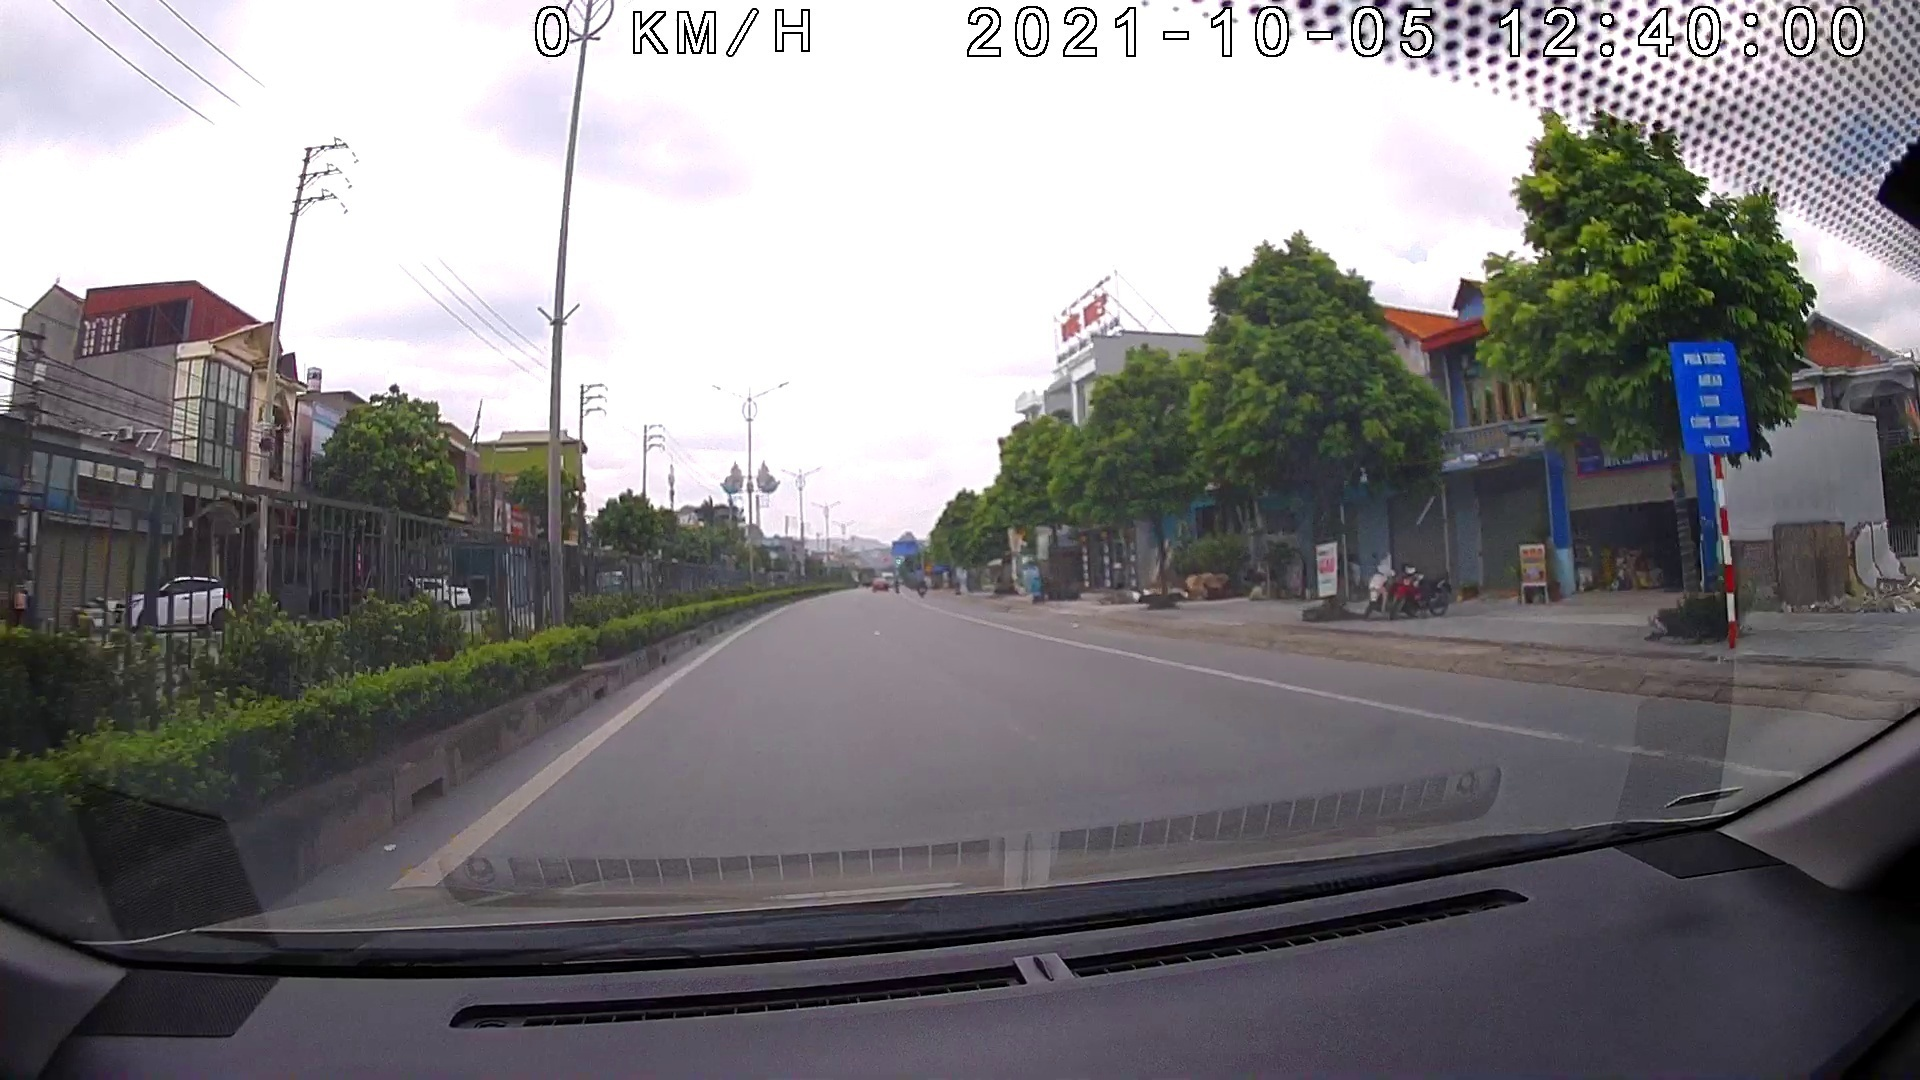Bien khac: (1663, 338, 1753, 458)
